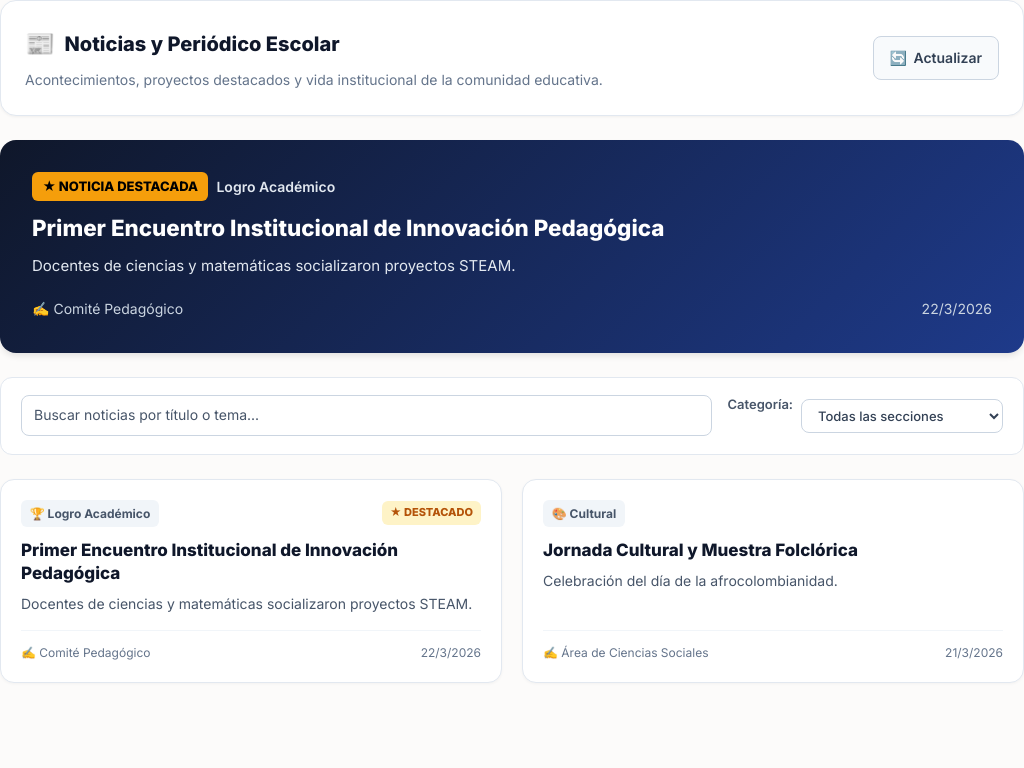
Test: Teacher News View (Phase B2) › opens article detail modal and reads full content
The image size is (1024, 768).
Note: Click on the second article card
Click the heading "Jornada Cultural y Muestra Folclórica" at (700, 550), box x1=543 y1=540 x2=858 y2=560
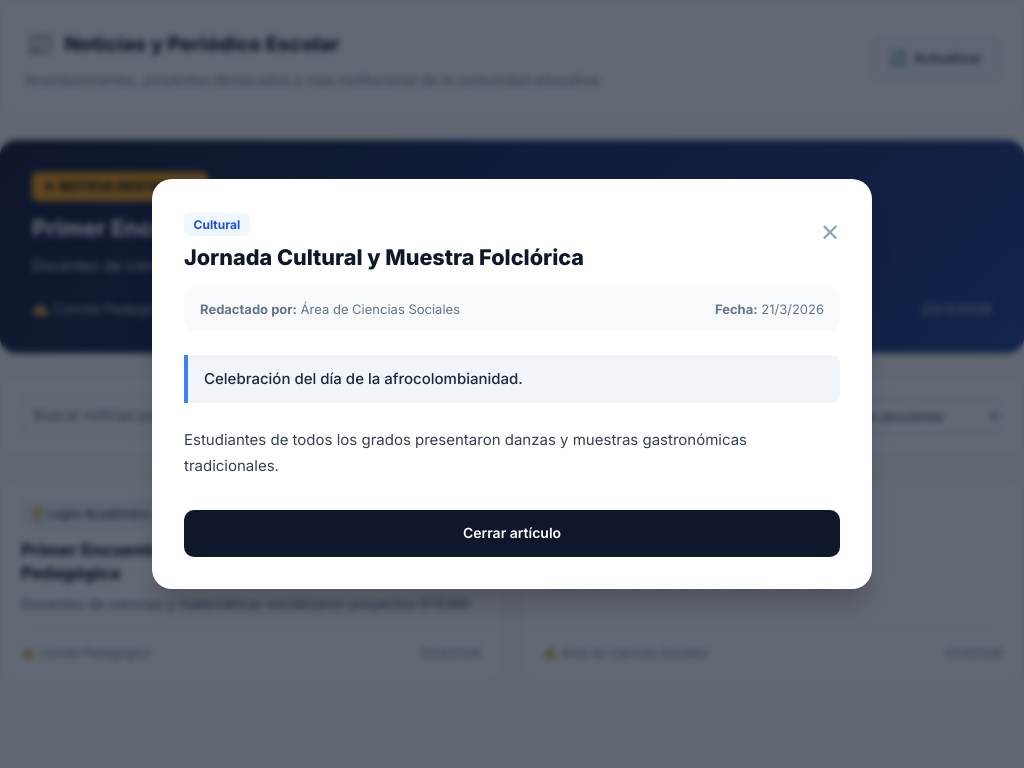
Expected: the button "Cerrar artículo" is shown
Expected: the text "Estudiantes de todos los grados presentaron danzas" is shown, x1=184 y1=430 x2=747 y2=475
Note: Close article modal
Click the button "Cerrar artículo" at (512, 534), box x1=184 y1=510 x2=840 y2=557
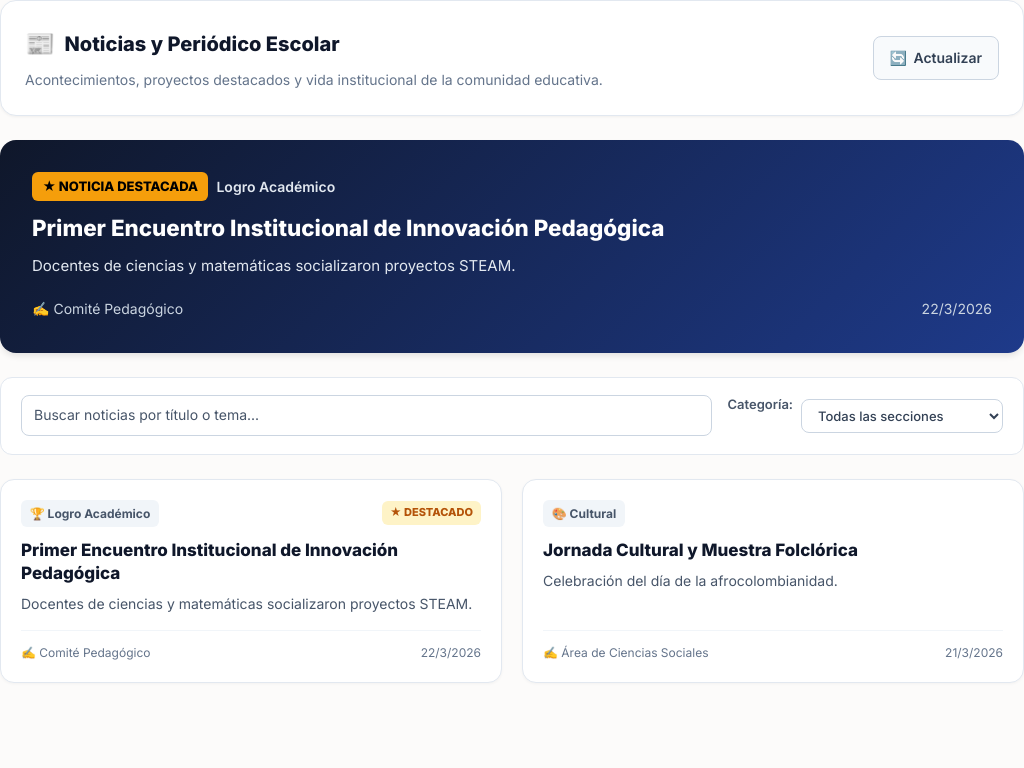
Expected: the button "Cerrar artículo" is gone
